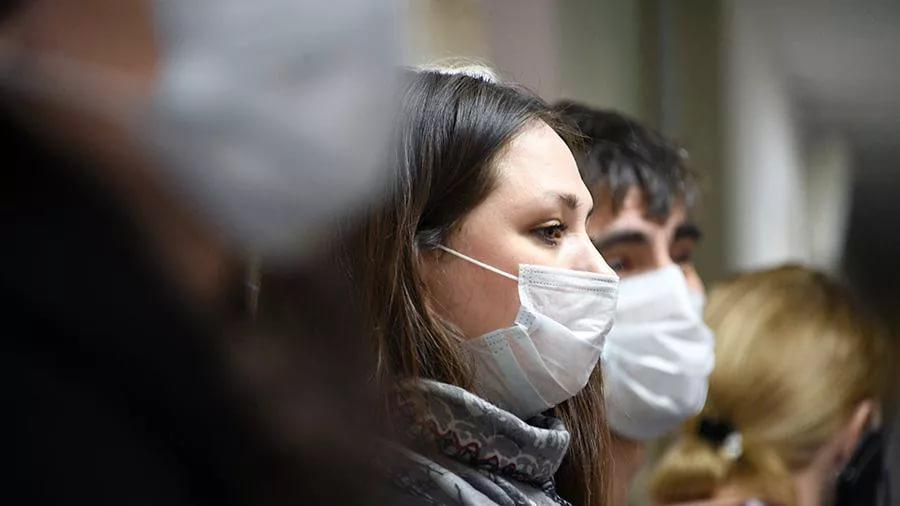mask: (436, 140, 624, 377), (602, 202, 714, 439)
